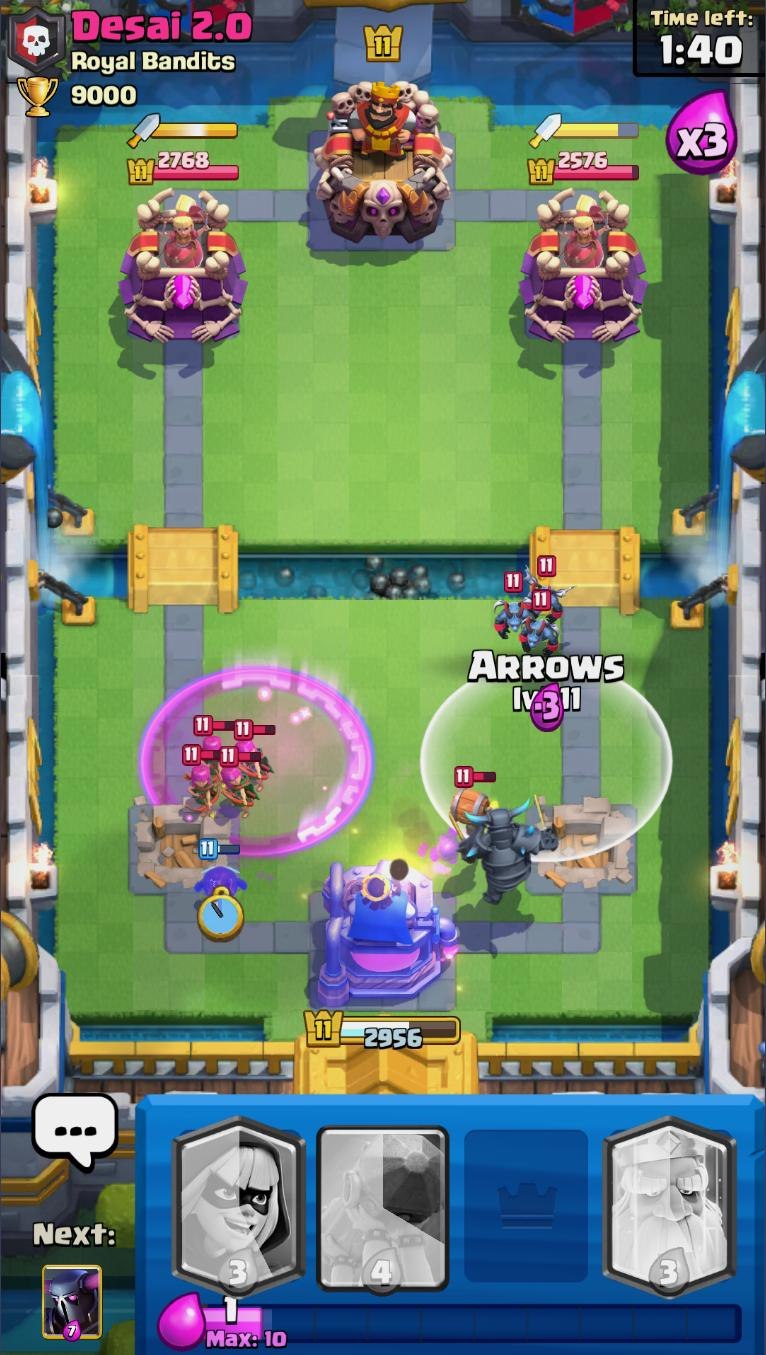Archer: (214, 744, 260, 811), (181, 741, 227, 807), (234, 719, 277, 786), (190, 713, 231, 763)
BanditDeck: (166, 1097, 314, 1297)
BattleRamDeck: (309, 1097, 453, 1291)
DaggerDuchess: (164, 193, 211, 267), (559, 196, 610, 264)
Daggers: (124, 113, 241, 150), (527, 113, 641, 146)
Elixir: (210, 1293, 749, 1351)
Empty: (453, 1097, 599, 1293)
EnemyTower: (516, 189, 649, 349), (119, 184, 249, 347)
KingTower: (314, 76, 456, 246)
Minion: (520, 556, 573, 624), (489, 571, 539, 641), (517, 591, 567, 659)
MyElectroSpirit: (193, 834, 249, 901)
MyKingHP: (304, 1010, 461, 1051)
MyKingTower: (311, 856, 461, 1009)
MyPekka: (451, 807, 563, 901)
MyPrincessTowerBrocken: (124, 797, 246, 899), (526, 799, 640, 893)
PekkaNext: (39, 1263, 104, 1343)
Rage: (137, 667, 376, 851)
RoyaleGhostDeck: (597, 1097, 741, 1297)
TowerPrincessHP: (526, 147, 641, 187), (127, 150, 243, 187)
WallBreakers: (449, 763, 503, 827)
